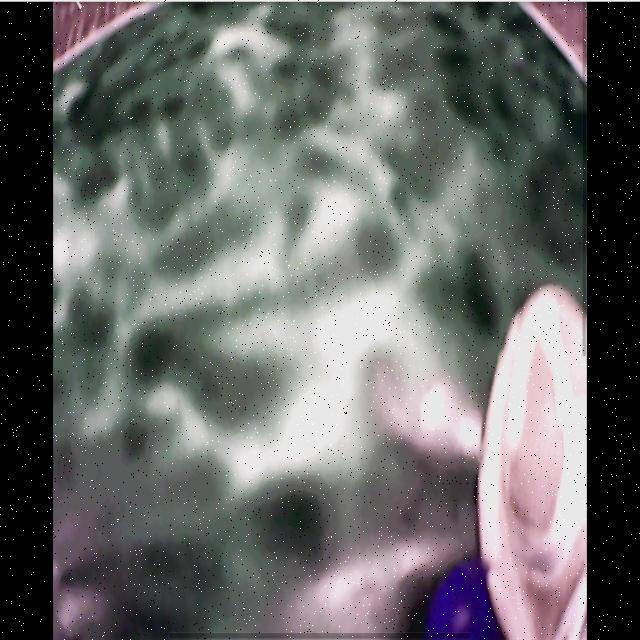ball: (428, 568, 505, 640)
